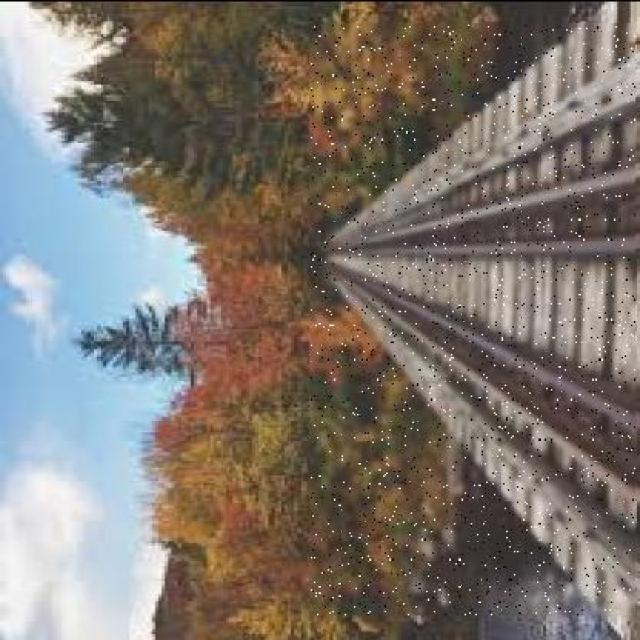rail: (312, 23, 635, 613)
